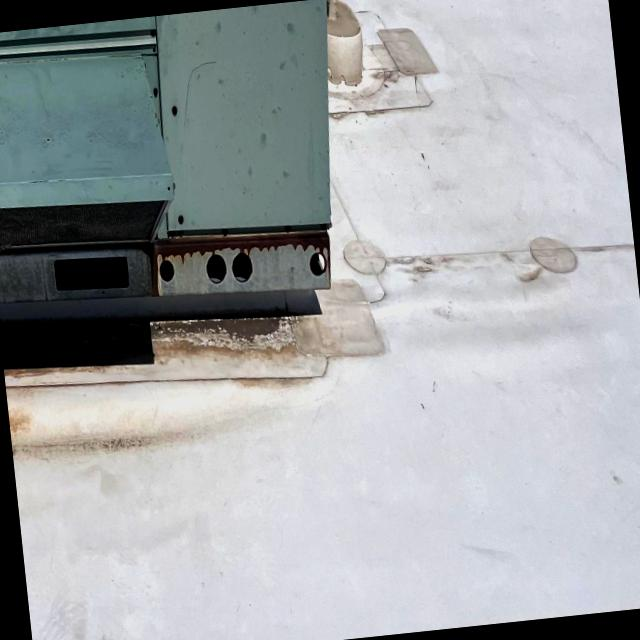RTU: (0, 0, 376, 342)
